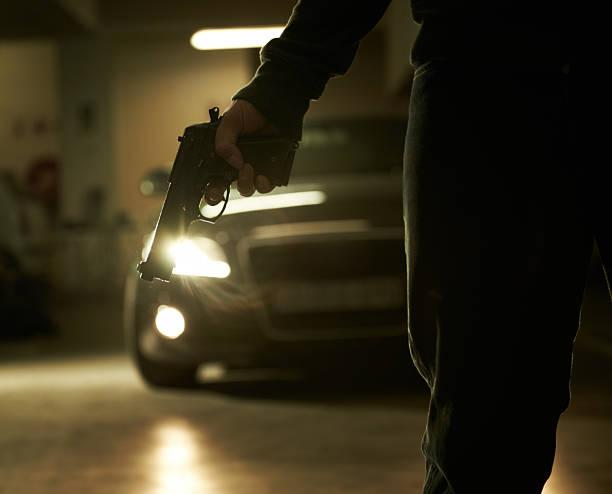weapon: (134, 103, 296, 286)
